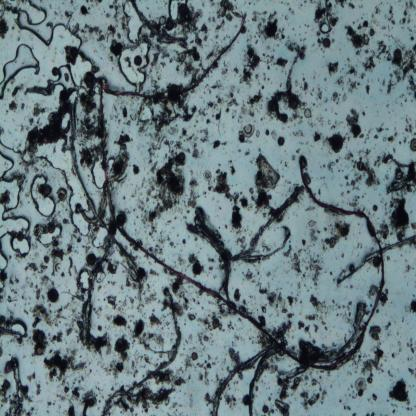Air bubble: (0, 42, 42, 98), (16, 2, 62, 48), (0, 142, 25, 224), (119, 40, 153, 85), (29, 168, 58, 218), (7, 232, 36, 261), (4, 314, 29, 342), (90, 160, 106, 190), (51, 67, 60, 78)
Background material: (24, 86, 72, 157), (146, 151, 188, 224), (268, 43, 304, 125), (131, 333, 169, 377), (76, 115, 104, 165), (116, 282, 158, 315), (146, 102, 200, 126), (293, 247, 323, 289), (252, 151, 281, 190), (359, 343, 387, 382), (313, 2, 343, 38), (42, 352, 76, 382), (386, 196, 412, 234), (132, 388, 174, 410), (10, 372, 32, 414), (121, 184, 144, 224), (238, 45, 262, 83), (185, 308, 213, 340), (107, 0, 130, 38), (385, 166, 416, 194), (294, 378, 322, 408), (323, 220, 353, 248), (347, 19, 371, 51), (29, 306, 67, 326), (403, 43, 416, 98), (213, 171, 235, 202), (190, 7, 210, 41), (388, 377, 412, 405), (240, 264, 266, 289), (214, 89, 242, 112), (196, 353, 218, 382), (150, 231, 178, 252), (200, 102, 223, 126), (364, 158, 382, 188), (260, 286, 284, 308), (0, 0, 13, 40), (334, 296, 352, 324), (338, 145, 361, 166), (254, 189, 274, 213), (385, 67, 402, 95), (186, 134, 204, 160), (248, 87, 266, 113), (79, 90, 100, 112), (27, 103, 43, 131), (150, 130, 171, 151), (209, 21, 227, 45), (158, 370, 183, 387), (399, 0, 416, 25), (186, 39, 204, 62), (376, 39, 394, 62), (232, 188, 250, 210), (114, 131, 134, 150), (382, 4, 398, 27), (342, 176, 362, 194), (2, 355, 22, 373), (252, 8, 264, 38), (230, 206, 244, 231), (401, 114, 416, 137), (63, 41, 78, 64), (86, 26, 106, 43), (307, 220, 323, 241), (82, 392, 97, 414), (309, 294, 327, 312), (109, 358, 126, 376), (344, 107, 360, 126), (112, 314, 127, 334), (227, 320, 240, 343), (314, 86, 328, 107), (274, 56, 292, 72), (362, 53, 378, 71), (205, 250, 216, 276), (148, 51, 162, 71), (132, 318, 146, 337), (182, 352, 193, 376), (280, 306, 296, 322), (309, 322, 325, 338), (40, 274, 57, 289), (110, 39, 124, 57), (226, 392, 240, 410), (381, 318, 393, 338), (67, 253, 76, 279), (296, 320, 314, 333), (403, 336, 416, 354), (69, 17, 82, 35), (34, 284, 47, 302), (24, 262, 40, 276), (148, 313, 164, 327), (284, 291, 297, 308), (198, 127, 210, 145), (106, 24, 118, 42), (202, 390, 214, 408), (8, 82, 22, 97), (0, 190, 14, 205), (0, 378, 9, 401), (52, 329, 64, 345), (106, 294, 118, 310), (34, 223, 44, 242), (330, 157, 341, 174), (327, 60, 340, 74), (337, 399, 351, 412), (264, 127, 277, 141), (347, 79, 359, 94), (50, 248, 65, 260), (60, 383, 72, 398), (392, 339, 400, 361), (120, 104, 130, 121), (211, 138, 224, 151), (383, 132, 397, 144), (374, 127, 384, 143), (72, 386, 82, 402), (298, 81, 311, 93), (5, 295, 19, 306), (232, 290, 243, 304), (407, 297, 416, 314), (408, 361, 416, 380), (337, 74, 346, 90), (394, 134, 406, 146), (176, 253, 188, 265), (312, 130, 322, 144), (66, 401, 76, 415), (35, 381, 43, 398), (46, 396, 57, 408), (0, 272, 11, 284), (8, 101, 19, 112), (403, 261, 413, 273), (133, 164, 141, 178), (228, 162, 236, 176), (332, 88, 338, 105), (178, 236, 188, 246), (364, 84, 372, 96), (244, 148, 252, 158), (231, 65, 239, 75), (363, 410, 376, 416), (94, 323, 104, 330), (256, 128, 263, 138), (372, 392, 378, 401), (360, 110, 366, 117), (15, 280, 20, 288), (352, 411, 358, 416)
Cellulose filter fibre: (96, 12, 387, 366), (58, 85, 144, 285), (115, 288, 184, 414), (232, 184, 302, 265), (77, 226, 118, 344), (213, 344, 278, 414), (336, 233, 416, 286), (190, 208, 233, 302), (313, 301, 368, 361), (131, 1, 189, 47), (387, 155, 416, 169)
Diatom: (353, 376, 369, 394), (329, 133, 344, 152), (264, 22, 279, 40), (47, 288, 61, 304), (241, 123, 255, 137), (32, 332, 47, 345), (116, 213, 128, 228), (56, 186, 68, 201), (115, 339, 126, 354), (84, 72, 95, 86), (372, 254, 382, 269), (392, 48, 404, 60), (86, 253, 96, 267), (74, 360, 88, 370), (193, 262, 203, 276), (43, 182, 53, 196), (178, 4, 189, 16), (202, 171, 214, 182), (352, 125, 362, 138), (52, 260, 62, 272), (166, 18, 175, 31), (178, 51, 187, 64), (134, 54, 142, 68), (47, 223, 57, 234), (357, 161, 366, 173), (409, 138, 416, 153), (304, 106, 312, 119), (370, 204, 380, 214), (80, 5, 89, 16), (231, 10, 243, 18), (243, 394, 250, 407), (212, 318, 221, 328), (323, 38, 331, 49), (191, 352, 199, 362), (219, 7, 226, 18), (262, 403, 268, 414), (372, 332, 380, 340), (36, 346, 42, 356), (279, 139, 286, 147), (172, 126, 179, 134), (160, 16, 166, 24), (0, 346, 3, 358)
